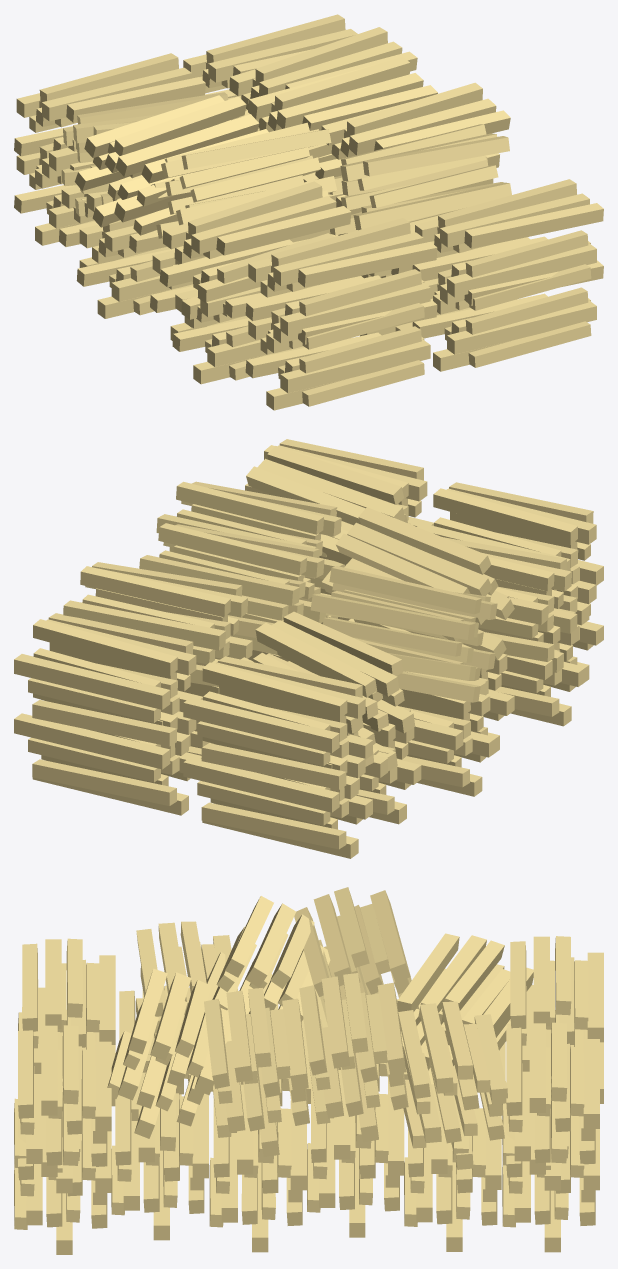
The model's file is fries.fbx.
3 views of the same model, one above another, from view 1: azimuth 30°, elevation 25°; view 2: azimuth 150°, elevation 25°; view 3: azimuth 270°, elevation 25° (orthographic). The views are drawn at different scales.
Visible parts, largest first — view 1: Cube.001; view 2: Cube.001; view 3: Cube.001.
Part boxes in pixels (x1,y1,x2,y2): Cube.001: (14, 14, 603, 410); Cube.001: (14, 439, 603, 858); Cube.001: (14, 887, 603, 1254).
Size of the model in its own units: 134 by 69.51 by 181.
